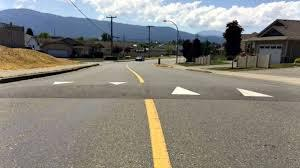Bump: (0, 80, 299, 102)
